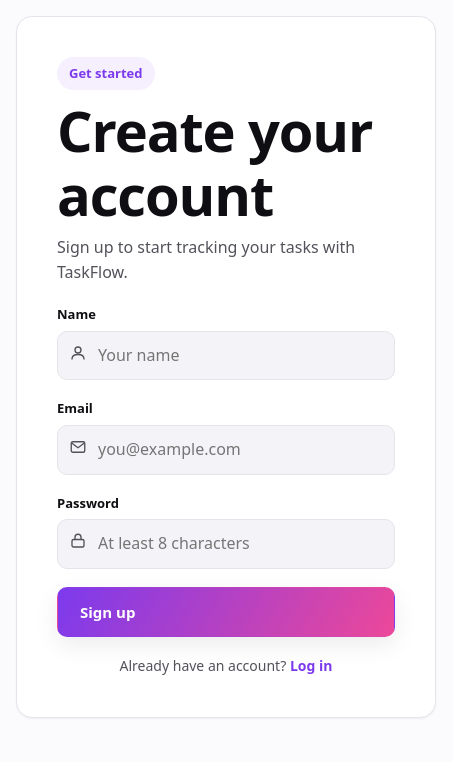
Test case: shows an error when the password is too short
Type "Aftab" into the field labelled "Name" at point(226, 355), box [57, 331, 395, 380]
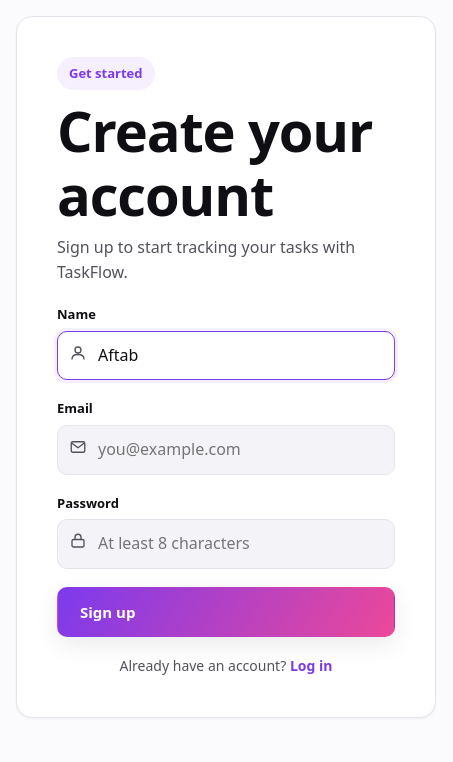
Type "aftab@example.com" into the field labelled "Email" at point(226, 450), box [57, 425, 395, 475]
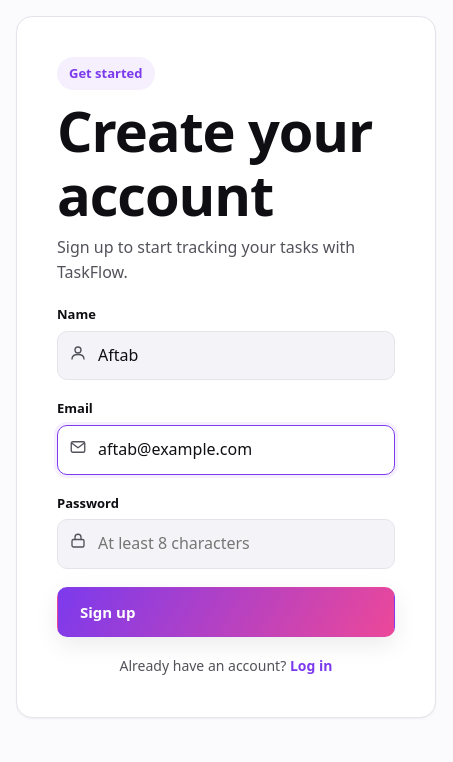
Type "short" into the password field labelled "Password" at point(226, 544), box [57, 519, 395, 569]
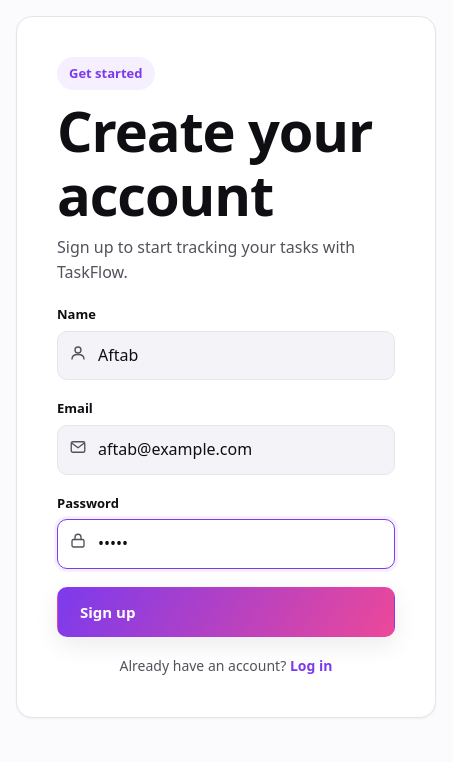
Click the button "Sign up" at point(108, 612), box [57, 587, 395, 637]
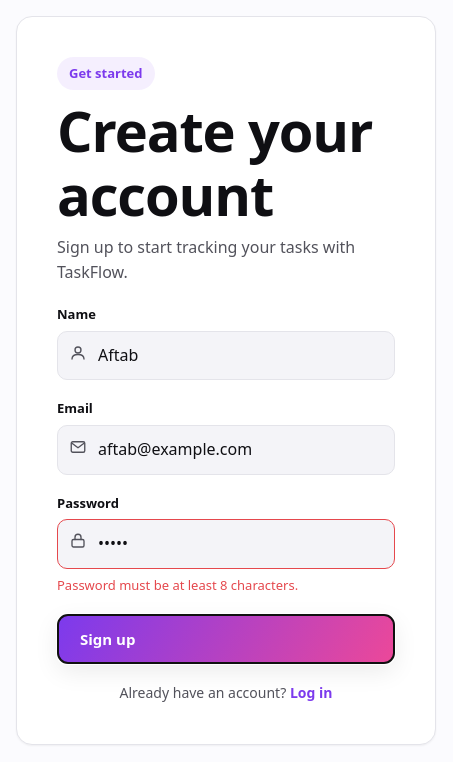
Now the text "Password must be at least 8 characters." is shown, box [57, 576, 298, 594]
